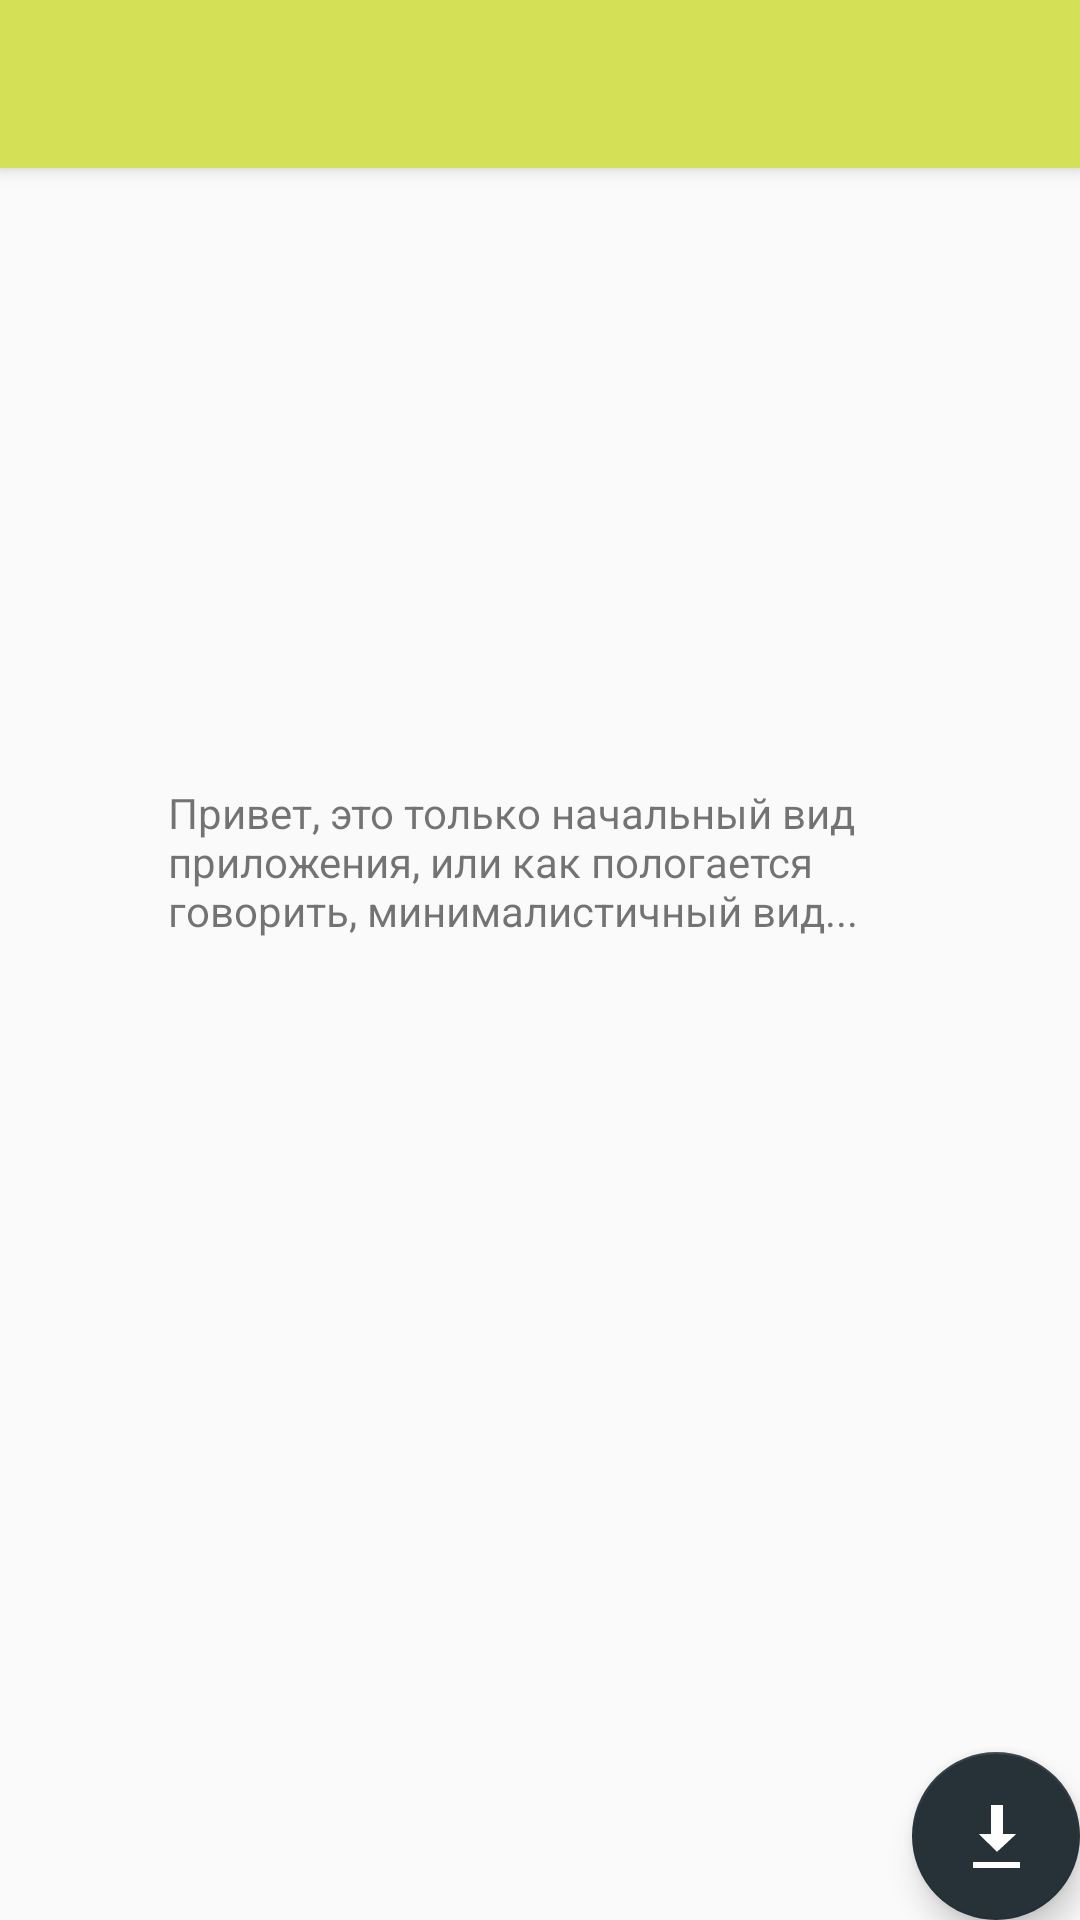

Icons on this 1080x1920 Android screen, each with its box as (x1, y1, x2, y2):
download: (912, 1752, 1080, 1920)
